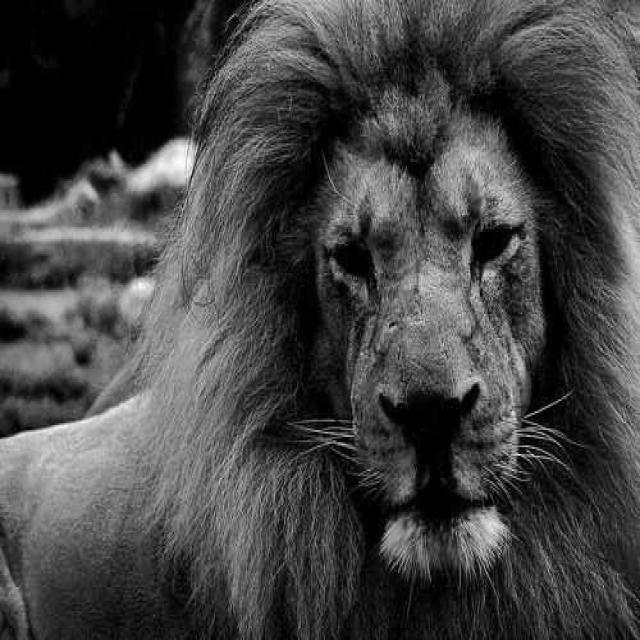Lion: (161, 44, 640, 580)
